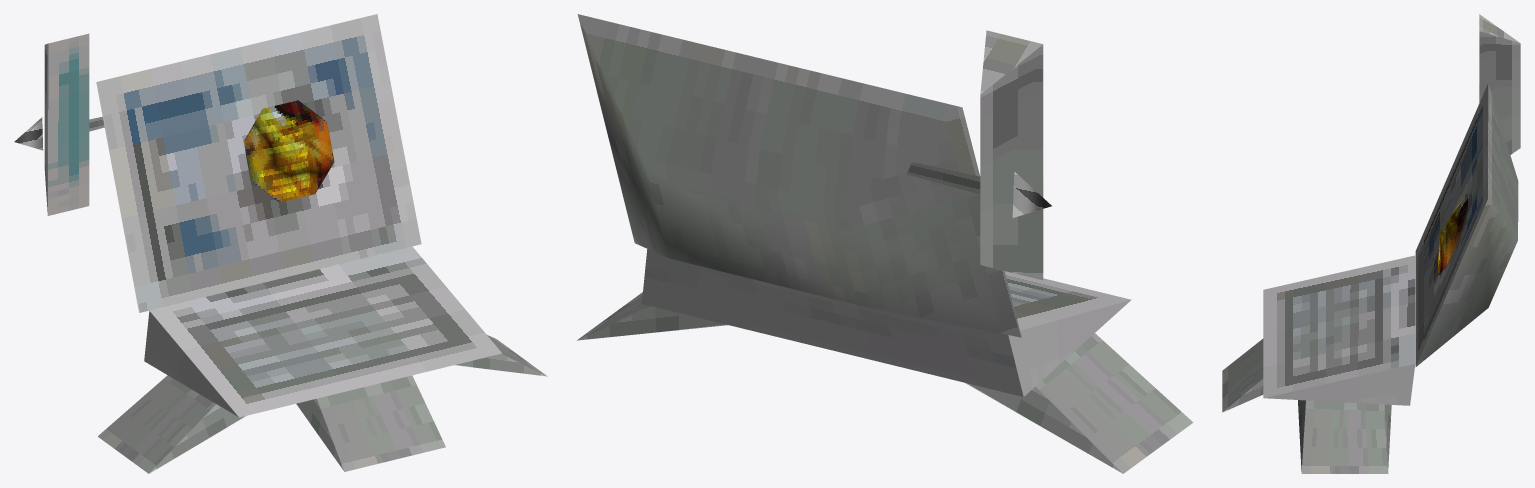
File: eqp_medic_medical_console_l2.fbx
3 renders of one model, left to right at view 1: azimuth 30°, elevation 25°; view 2: azimuth 150°, elevation 25°; view 3: azimuth 270°, elevation 25°, orthographic. The views are drawn at different scales.
Visible parts, largest first — view 1: mesh_node; view 2: mesh_node; view 3: mesh_node.
Part boxes in pixels (x1,y1,x2,y2): mesh_node: [14, 14, 547, 473]; mesh_node: [577, 14, 1193, 473]; mesh_node: [1222, 14, 1520, 473].
Bounding box in the file's own units: 0.429 × 0.3479 × 0.3167.
1 material, 1 textured.
